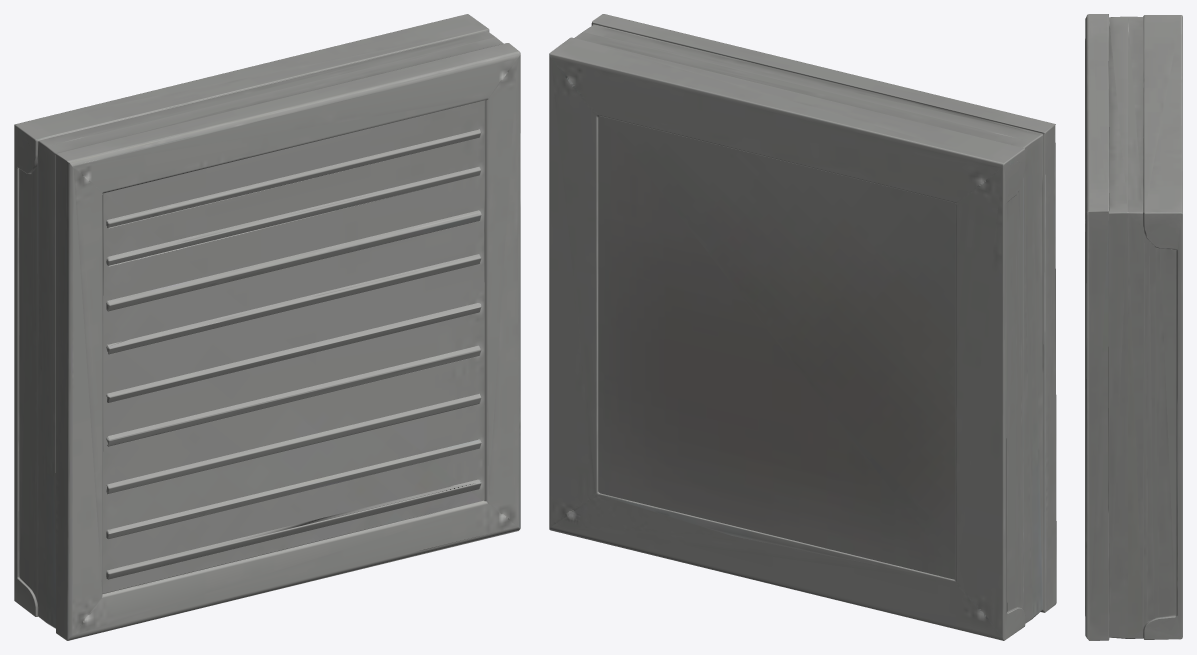
The model's file is ventilation_grille.glb.
3 renders of one model, left to right at view 1: azimuth 30°, elevation 25°; view 2: azimuth 150°, elevation 25°; view 3: azimuth 270°, elevation 25°, orthographic. The views are drawn at different scales.
Size of the model in its own units: 0.9429 by 0.9531 by 0.1968.
Materials: 1 (1 with a texture image).
